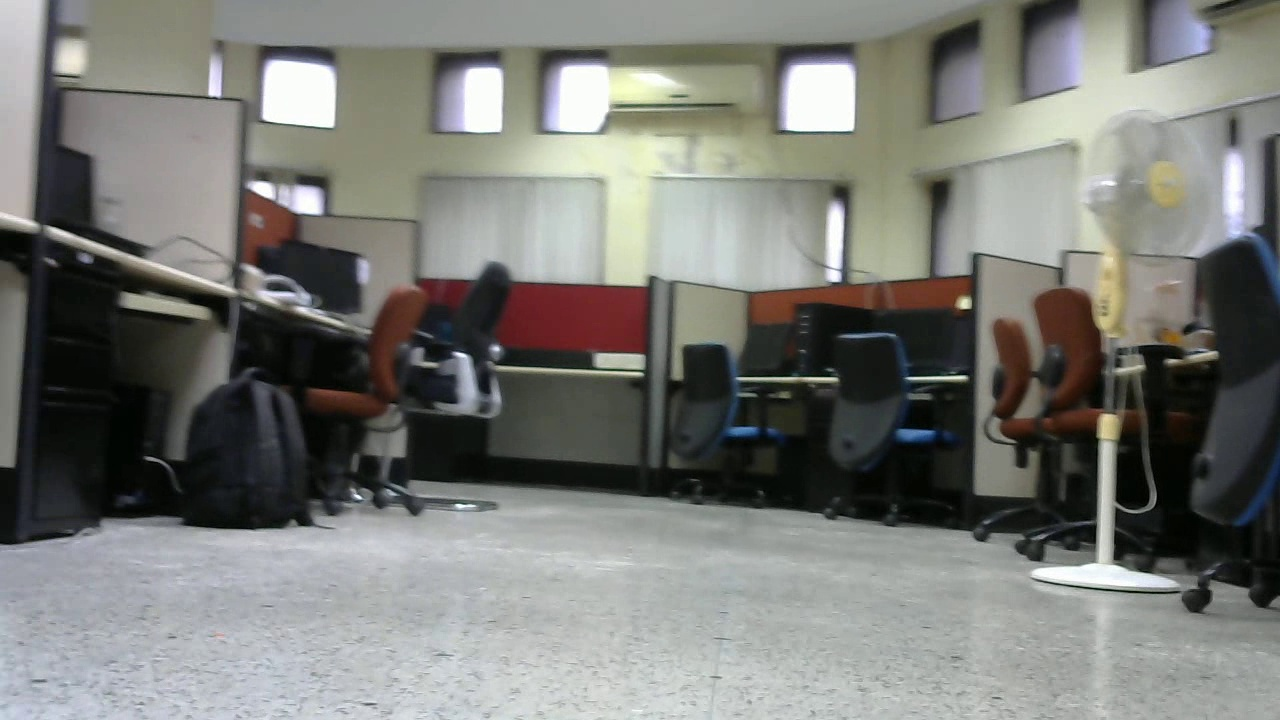chair: (980, 301, 1194, 558), (396, 258, 529, 512), (273, 276, 432, 484), (816, 332, 958, 528), (663, 344, 800, 508)
